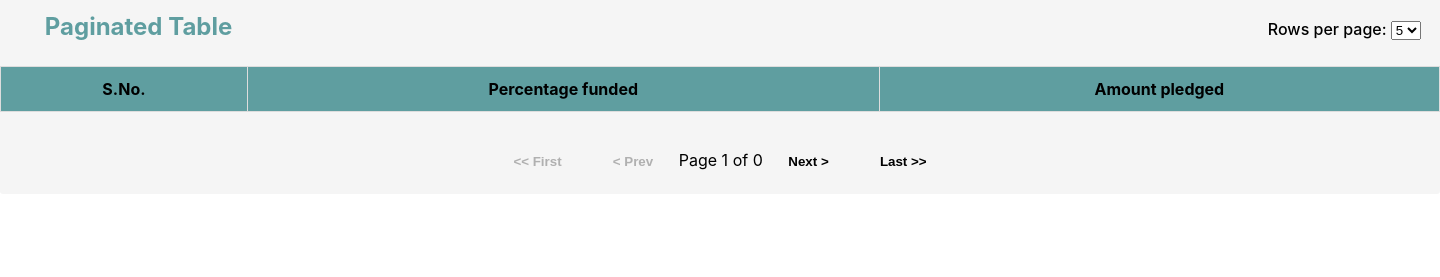
PaginatedTable › changes rows per page correctly when the user selects a new value
Check: the column heading "S.No." is shown, box [0, 67, 247, 112]
Select "3" in the dropdown labelled "Rows per page:" at (1406, 30), box [1391, 21, 1421, 40]
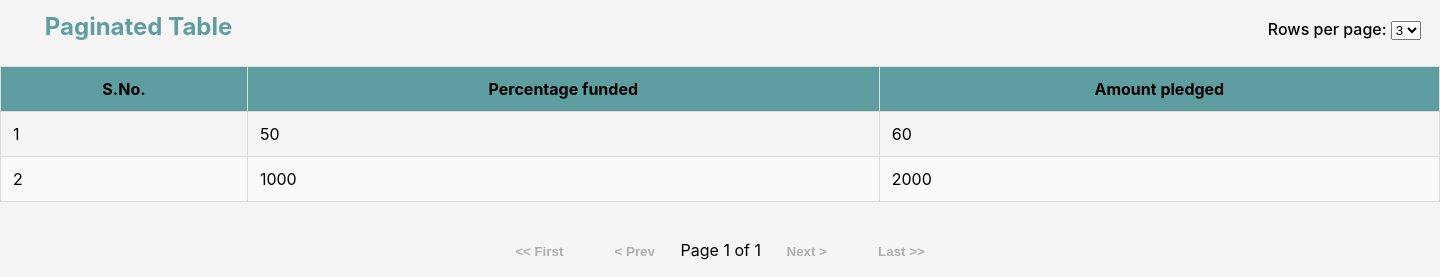
Check: the text "1" is shown, box [0, 112, 247, 157]
Check: the text "2" is shown, box [0, 157, 247, 202]
